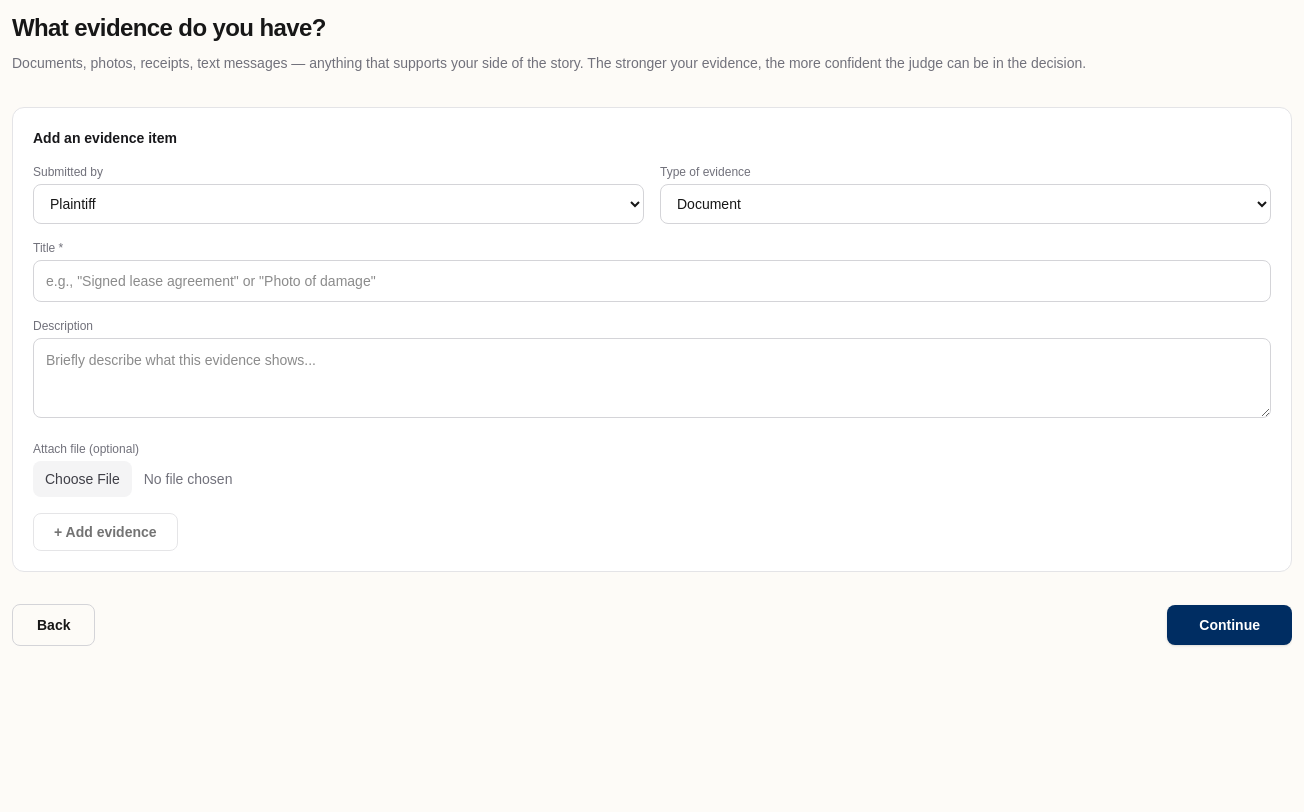
EvidenceStep › enables add button when title has content
In the field with placeholder "e.g., \"Signed lease agreement\" or \"Photo of damage\"": {"x": 652, "y": 281} [33,260,1271,302], type "Lease agreement"
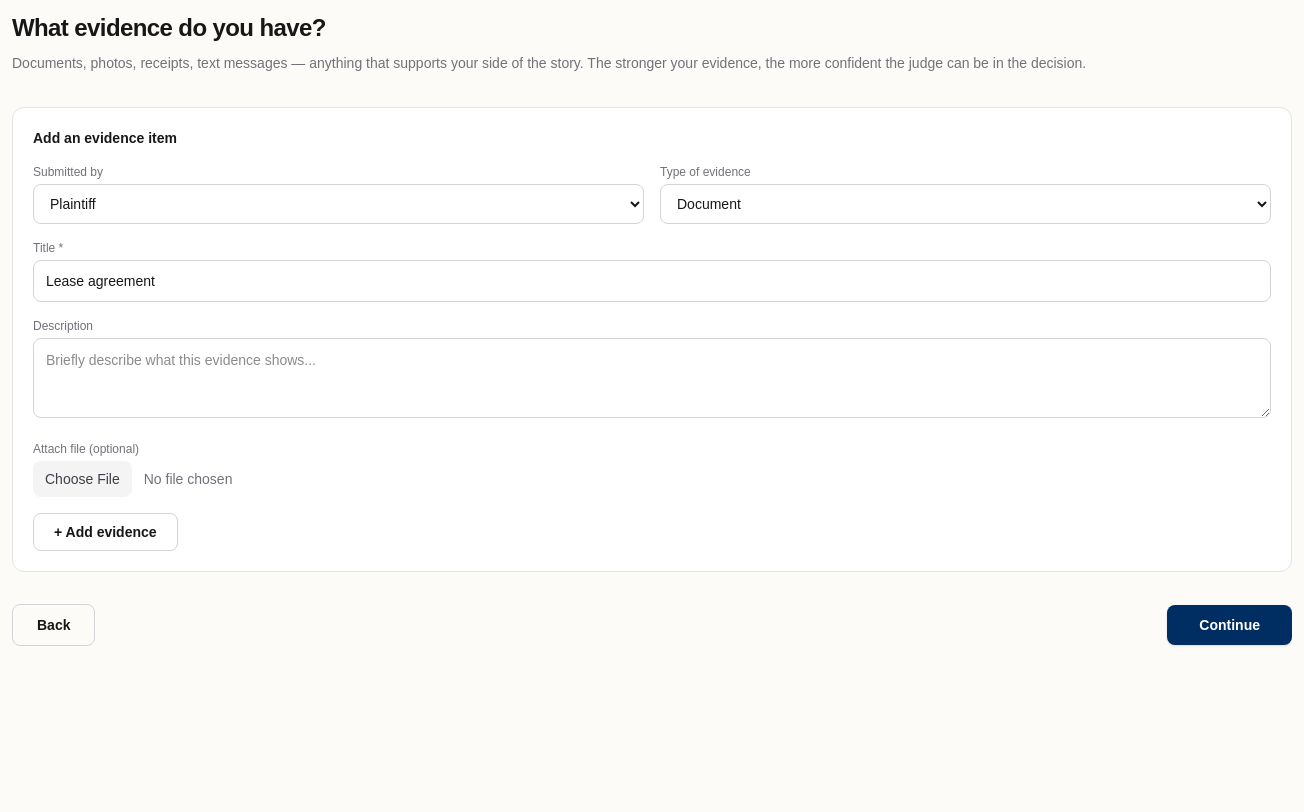
Expected: the button "+ Add evidence" is enabled, [33,513,178,551]
